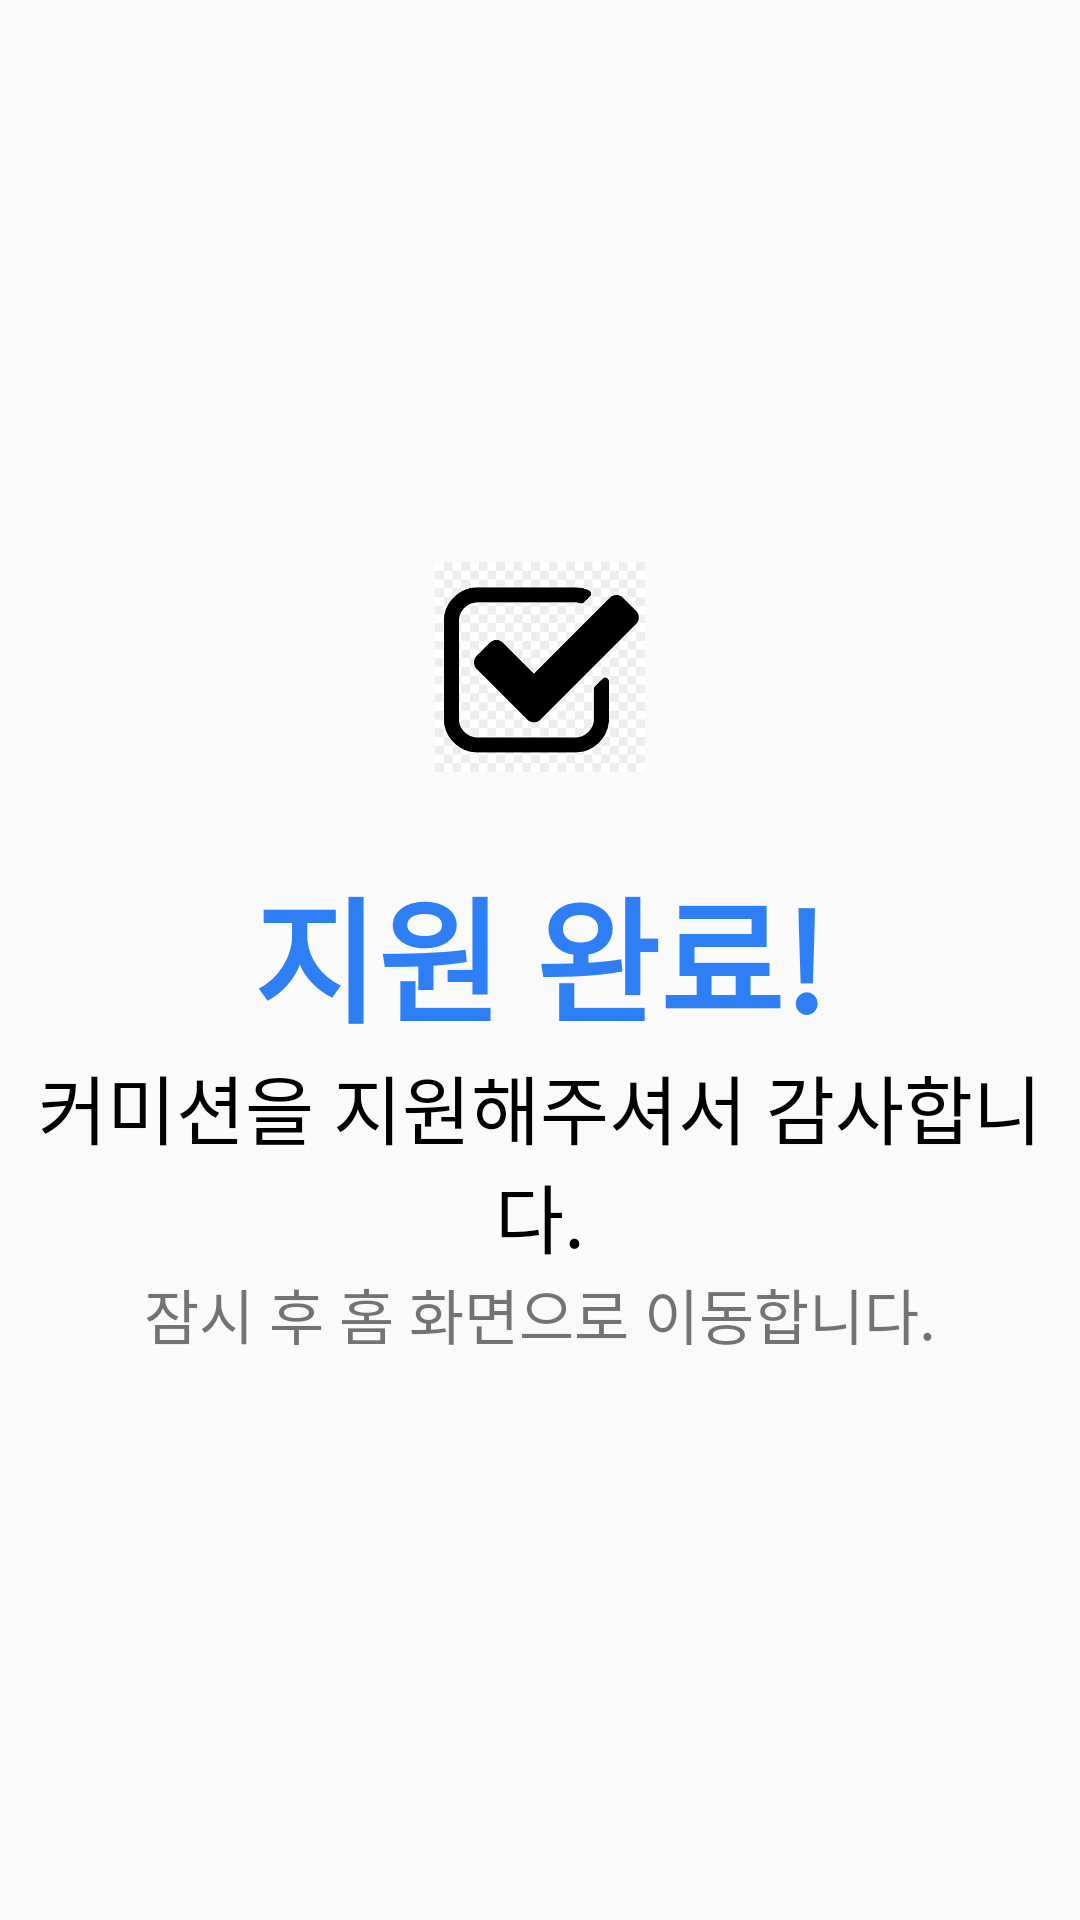

Screen size 1080px×1920px. Icon name, then its center in pixels as (x=x, y=y):
check: (x=541, y=670)
